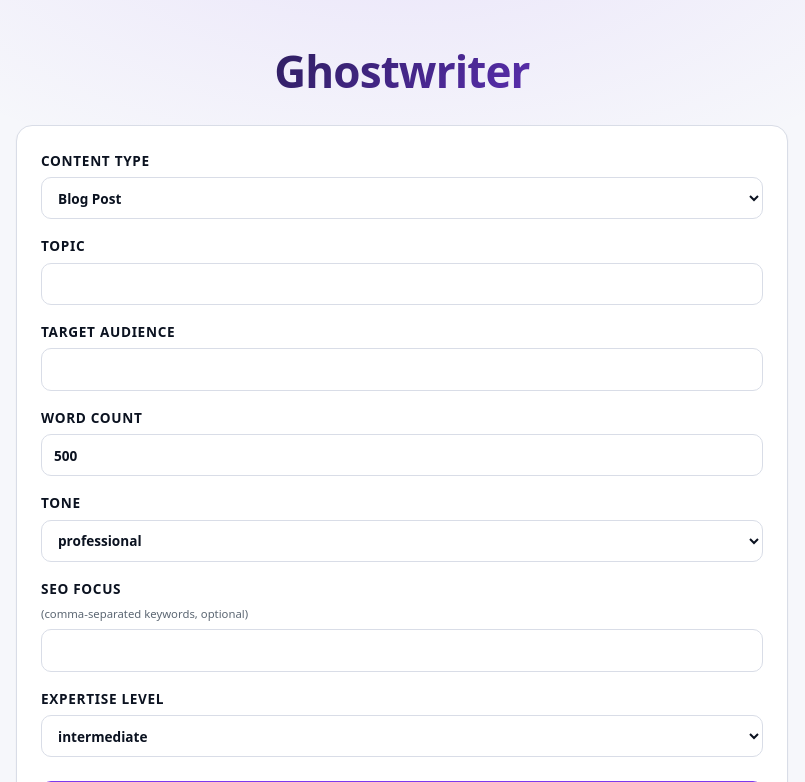
Test case: App › renders generated text on success
The image size is (805, 782).
Type "test topic" into the field labelled "Topic".
click(402, 284); type("test topic")  # box [41,263,763,305]
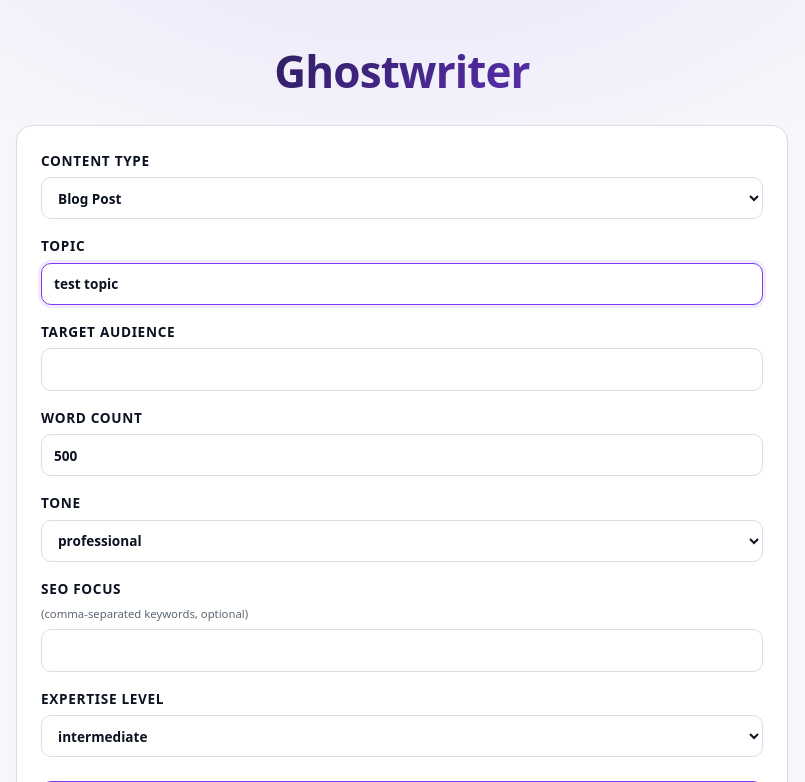
Type "testers" into the field labelled "Target Audience".
click(402, 370); type("testers")  # box [41,348,763,391]
(page scrolled)
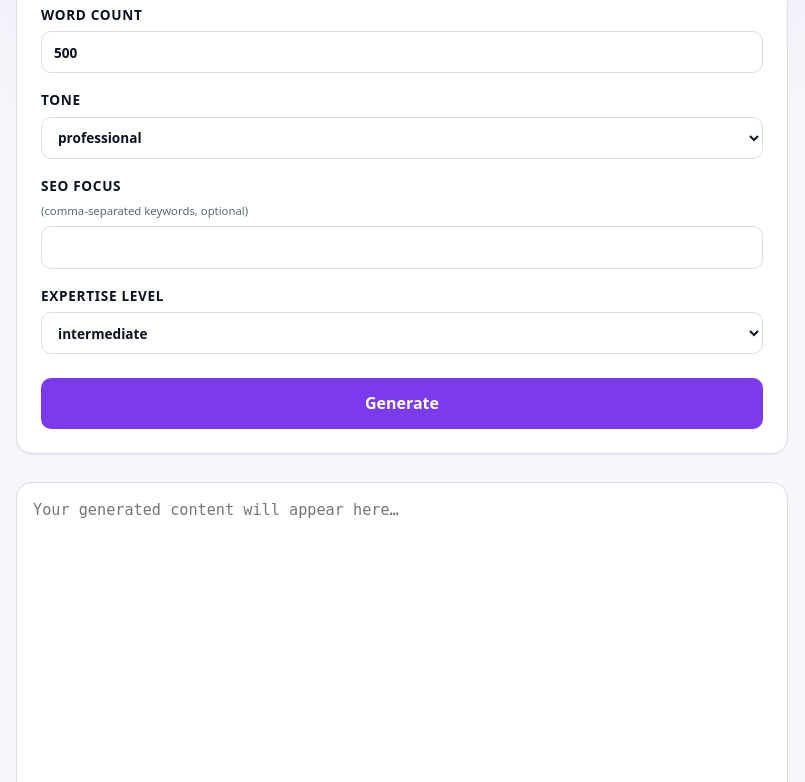
Click the button "Generate".
click(402, 404)  # box [41,378,763,429]
(page scrolled)
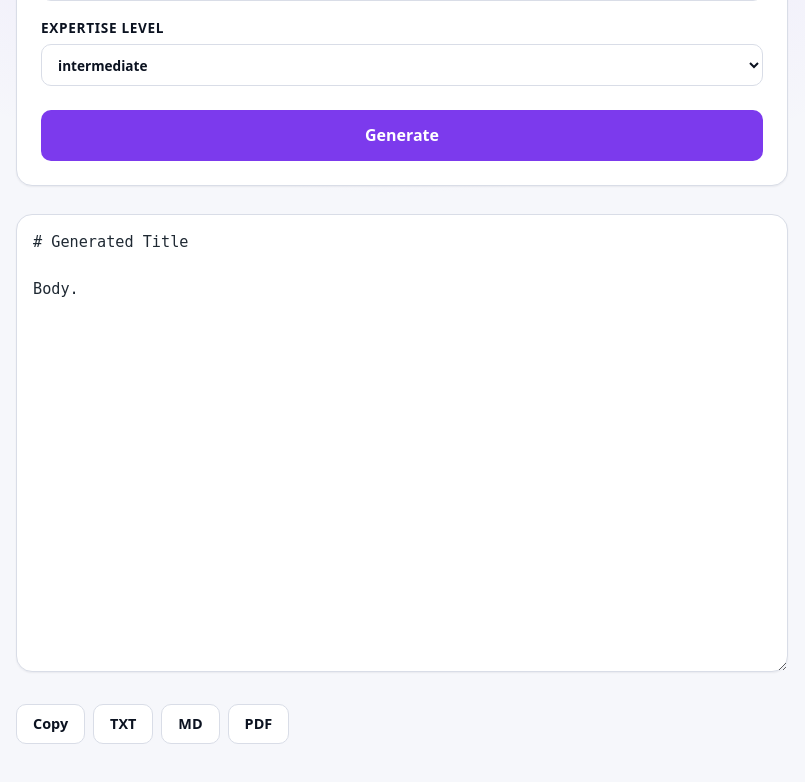
Result: the text box showing "# Generated Title" is shown at [16,214,788,672]
Result: the button "Copy" is shown at [16,704,85,744]
Result: the button "PDF" is shown at [228,704,289,744]
